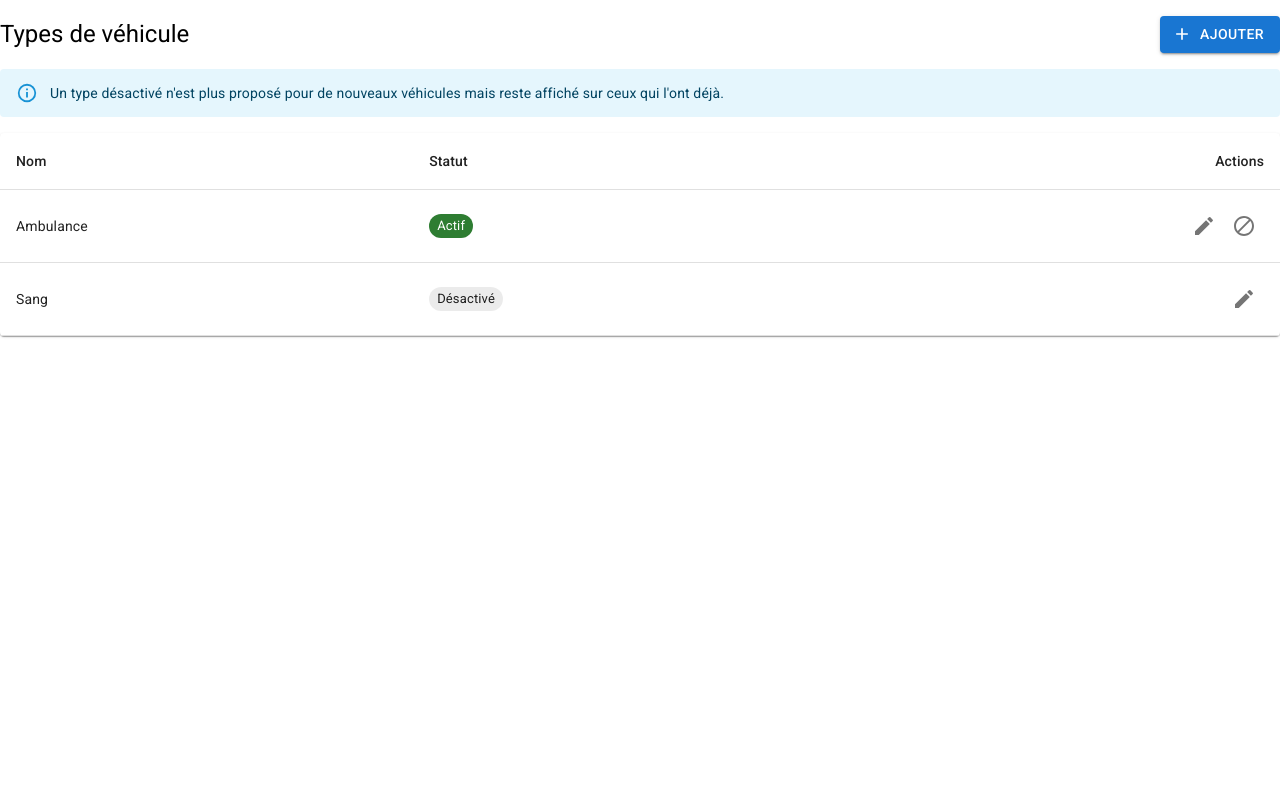
Test: VehicleTypesPage › renomme un type et affiche l'erreur métier en français
Expected: the text "Ambulance" is shown, [0, 189, 413, 262]
Click the button named "Renommer Ambulance" at x=1204, y=226, box [1184, 206, 1224, 246]
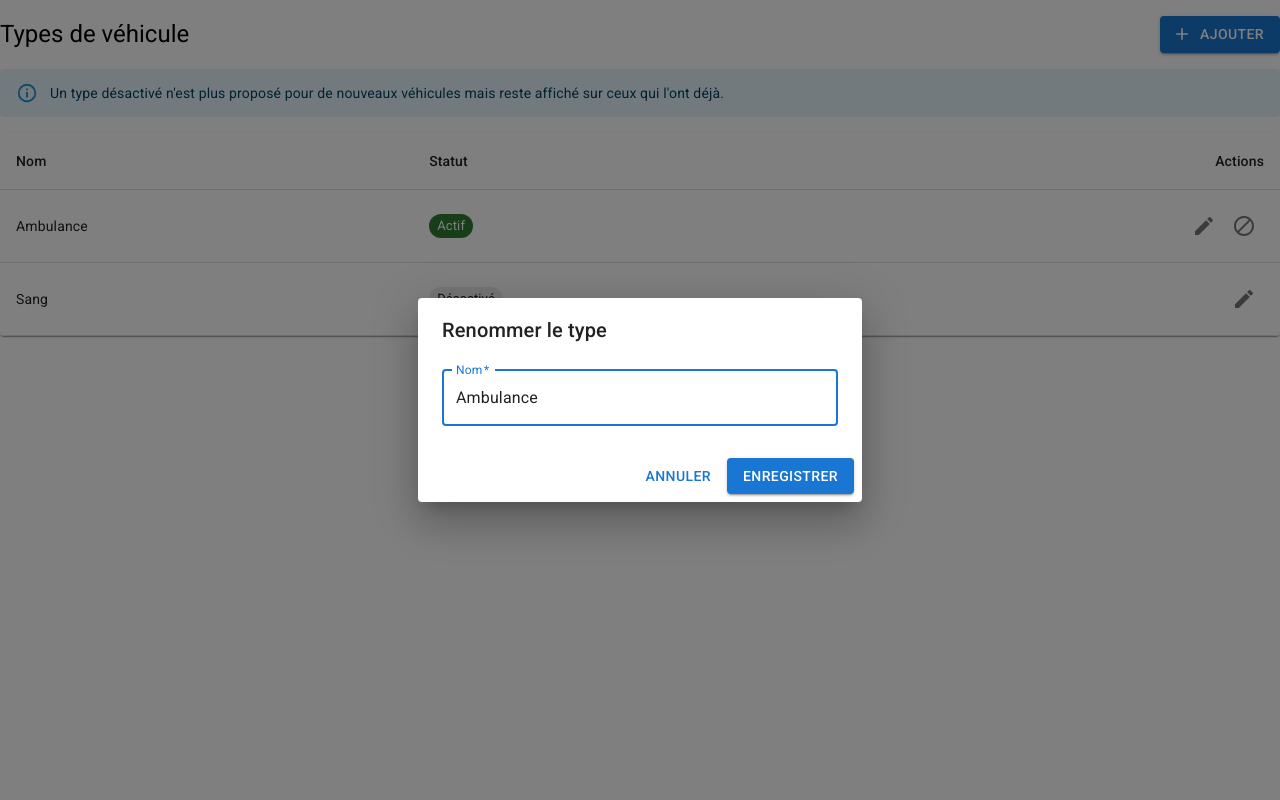
Replace the text in the field labelled "Nom *" with "VSL" at x=640, y=398, box [442, 370, 838, 426]
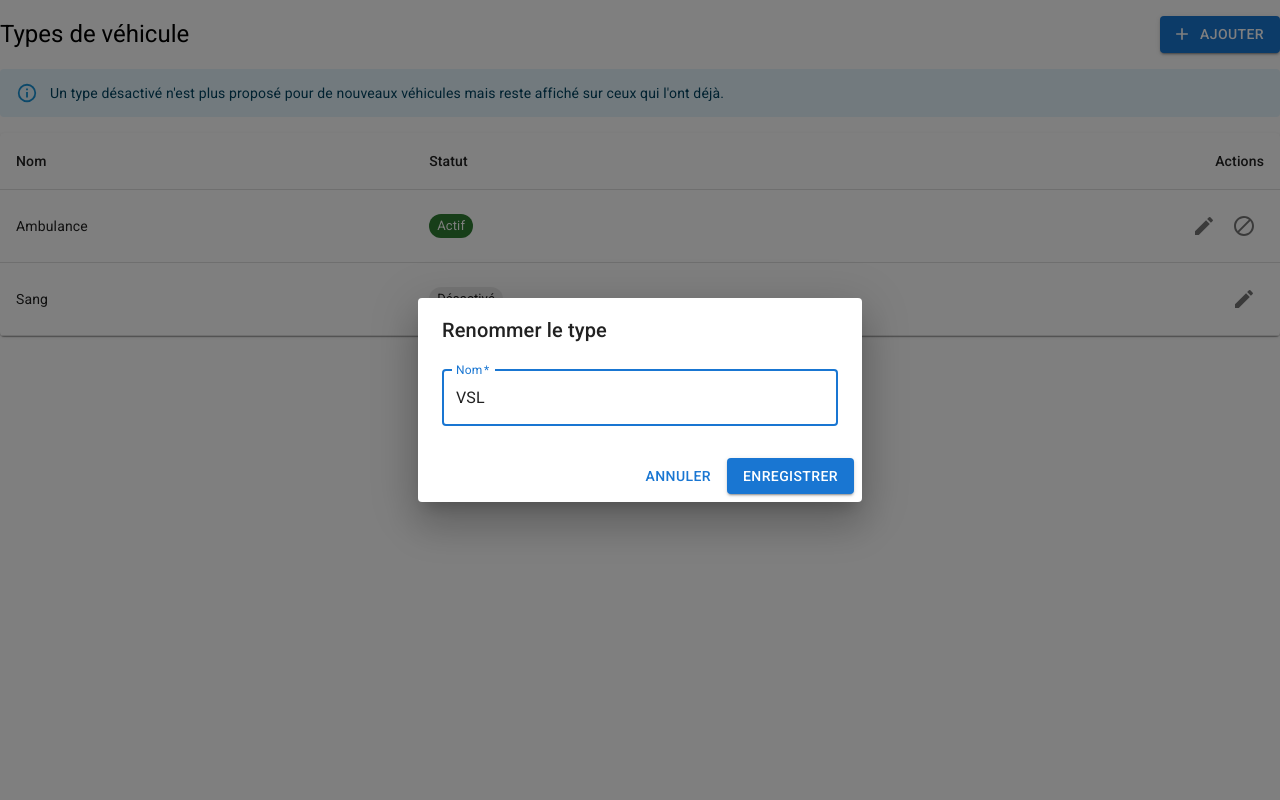
Click the button "Enregistrer" at x=790, y=476, box [727, 458, 854, 494]
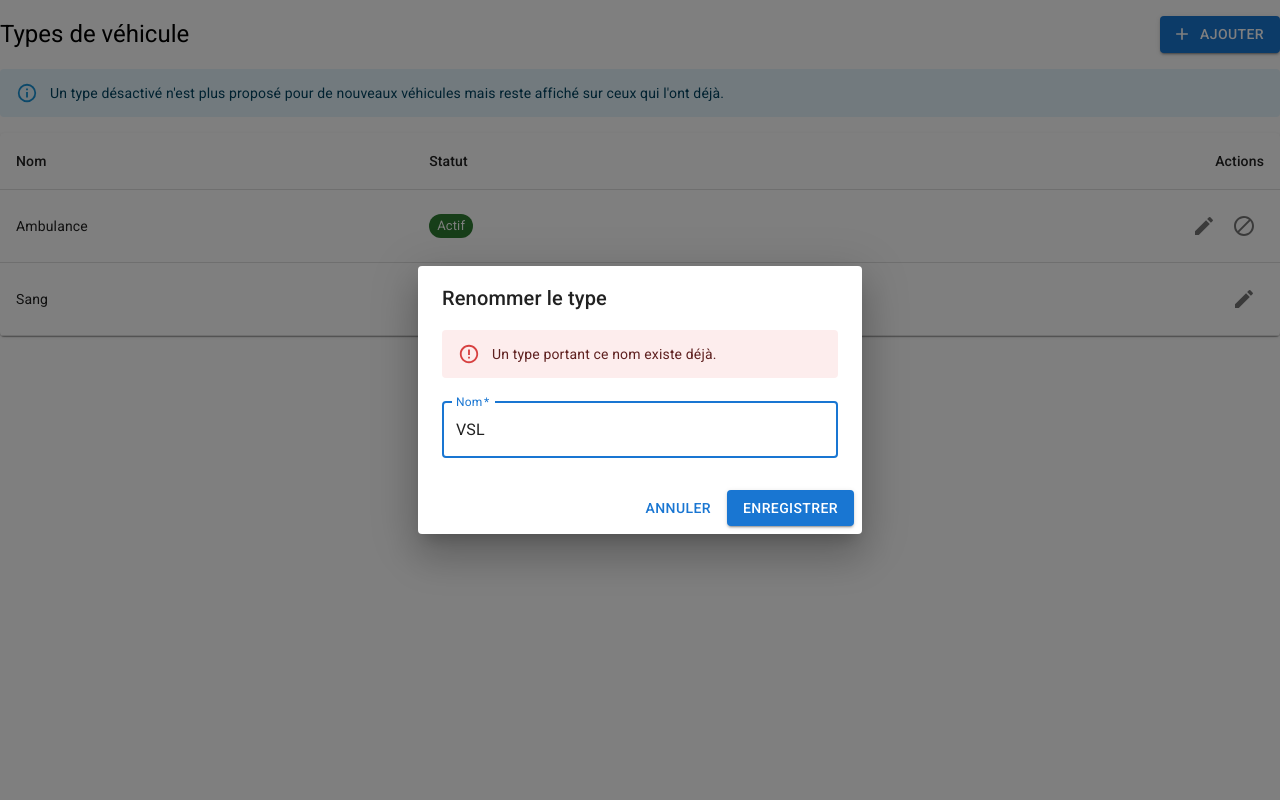
Expected: the text "Un type portant ce nom existe déjà." is shown, [492, 346, 716, 362]
